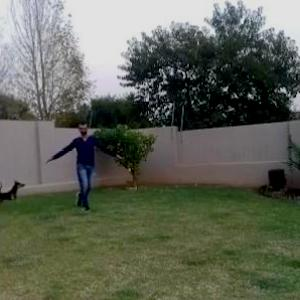land: (52, 115, 130, 206)
